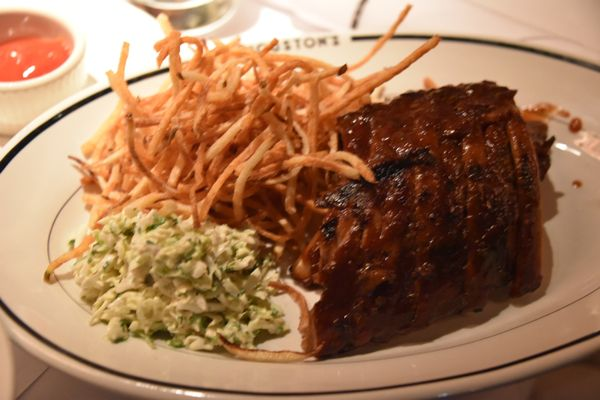sushi: (0, 4, 89, 138), (0, 5, 88, 93)
